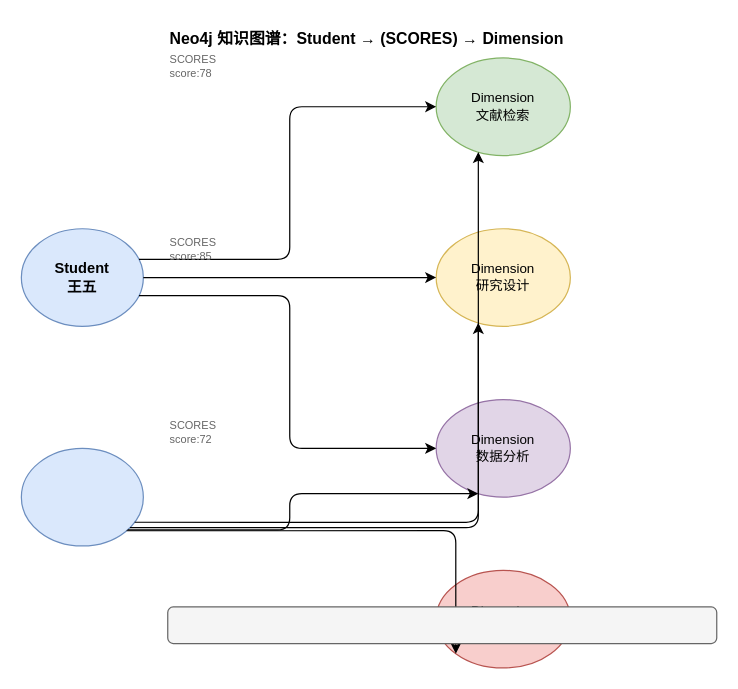
This 738x689 diagram has some shape labels left out. Each missing label, with the centre of its shape:
MATCH (s:Student {id:$sid})-[r:SCORES]->(d:Dimension) RETURN d.name, r.score: point (442, 625)
Student 赵六: point (81, 496)
